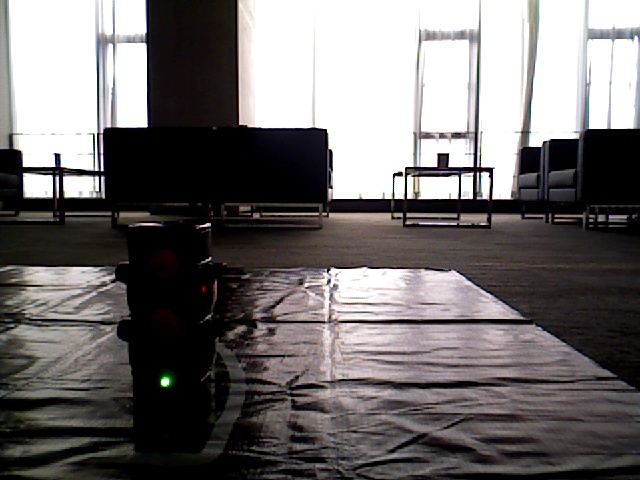green: (136, 224, 206, 395)
